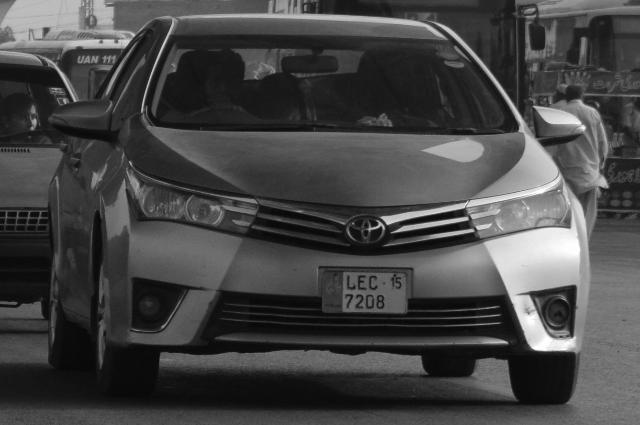Number: (342, 275, 390, 311)
